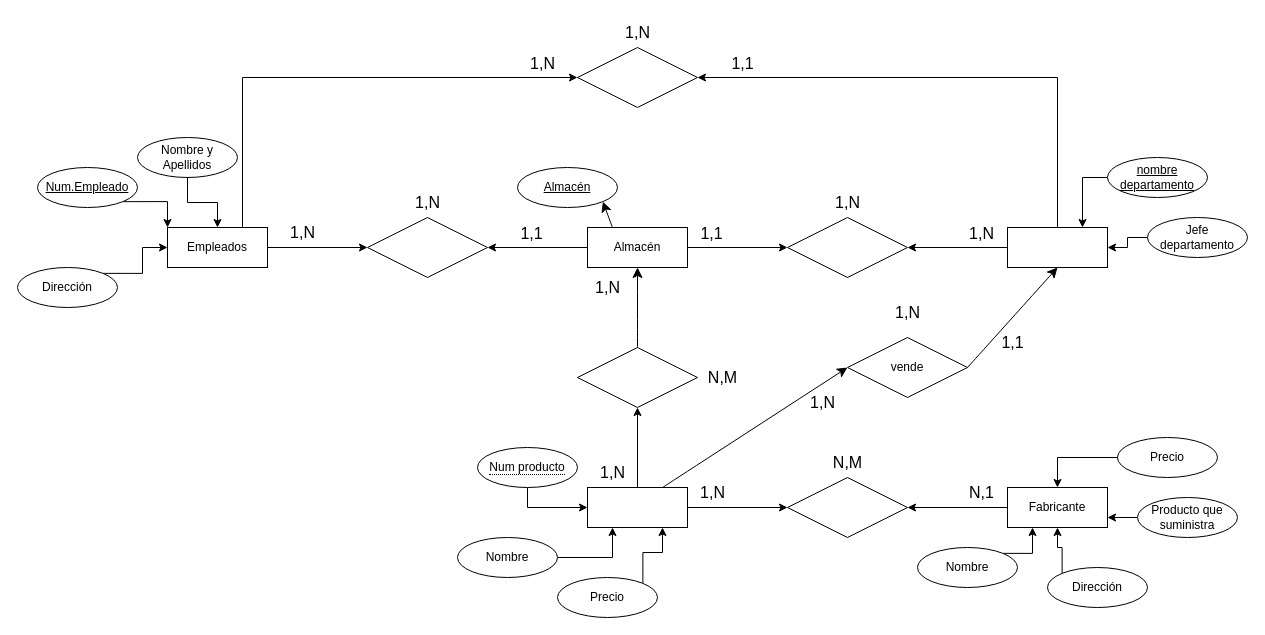
This 1265x635 diagram has some shape labels left out. The shapes that lost their labels are listed below. From the top down, each one's centre as x and y in pixels, then its label:
[637,77]: Trabajan
[427,247]: Pertenece
[847,247]: contiene
[1057,247]: Departamentos
[637,377]: se guarda
[637,507]: Productos
[847,507]: sumistrado
